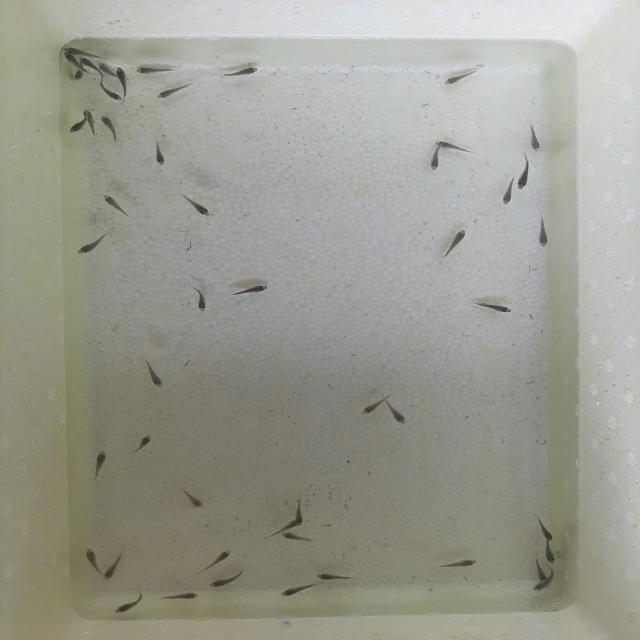fingerling: (437, 227, 467, 268), (205, 569, 251, 590), (112, 589, 148, 615), (74, 232, 110, 257), (178, 192, 212, 218), (532, 212, 554, 250), (99, 193, 131, 218), (438, 68, 482, 86), (228, 282, 269, 301), (532, 511, 555, 543), (158, 587, 204, 603), (437, 556, 482, 572), (515, 154, 534, 191), (143, 359, 167, 388), (102, 552, 126, 580), (474, 298, 514, 314), (523, 122, 543, 154), (189, 283, 210, 313), (99, 113, 119, 144), (278, 531, 316, 547), (151, 136, 170, 167), (204, 548, 233, 568), (90, 448, 107, 482), (83, 548, 102, 578), (178, 488, 205, 509), (131, 432, 154, 455), (386, 402, 408, 426), (217, 66, 264, 77), (154, 87, 188, 102), (276, 584, 312, 598), (435, 139, 477, 151), (135, 64, 183, 74), (316, 571, 355, 583), (360, 399, 384, 418), (101, 84, 125, 103), (500, 176, 515, 205), (428, 147, 444, 172), (293, 498, 305, 526), (109, 65, 131, 78), (529, 579, 549, 593), (544, 547, 558, 563), (69, 120, 85, 134), (81, 108, 98, 120), (72, 70, 86, 82), (80, 57, 94, 68), (64, 52, 76, 64), (96, 62, 110, 72), (63, 46, 78, 53)
